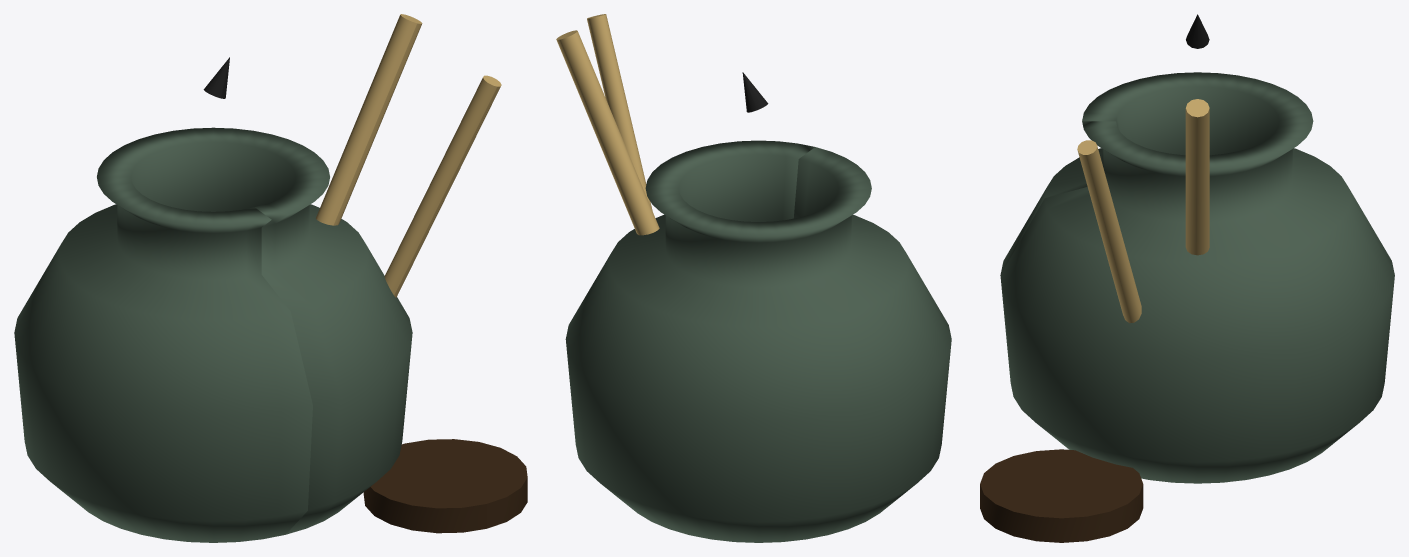
3 renders of one model, left to right at view 1: azimuth 30°, elevation 25°; view 2: azimuth 150°, elevation 25°; view 3: azimuth 270°, elevation 25°, orthographic. The views are drawn at different scales.
Visible parts, largest first — view 1: OBJ-019 — DEMO NON_VALIDE; view 2: OBJ-019 — DEMO NON_VALIDE; view 3: OBJ-019 — DEMO NON_VALIDE.
Boxes of the visible parts, bbox=[...] form: OBJ-019 — DEMO NON_VALIDE: bbox=[14, 14, 527, 542]; OBJ-019 — DEMO NON_VALIDE: bbox=[556, 14, 951, 542]; OBJ-019 — DEMO NON_VALIDE: bbox=[980, 14, 1394, 542].
Bounding box in the file's own units: 1.97 × 1.98 × 1.76.
